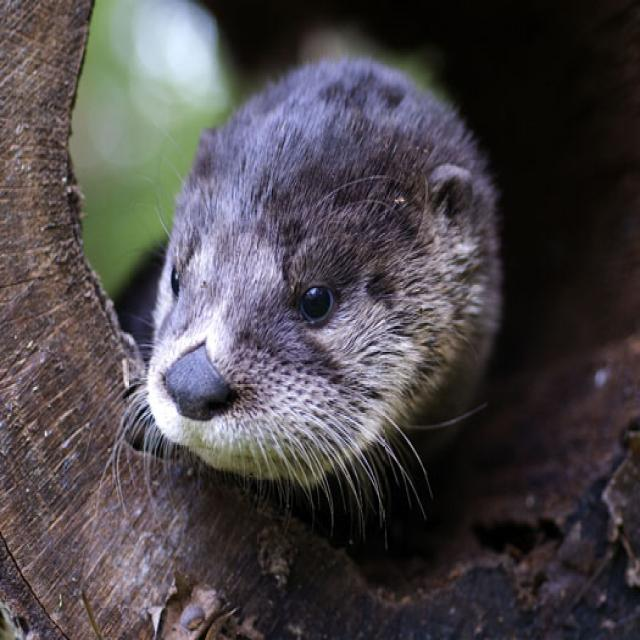otter: (148, 69, 496, 485)
